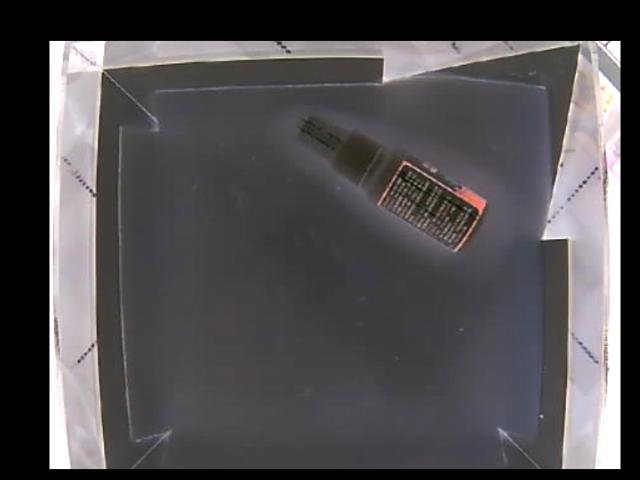Bottle: (293, 113, 489, 253)
